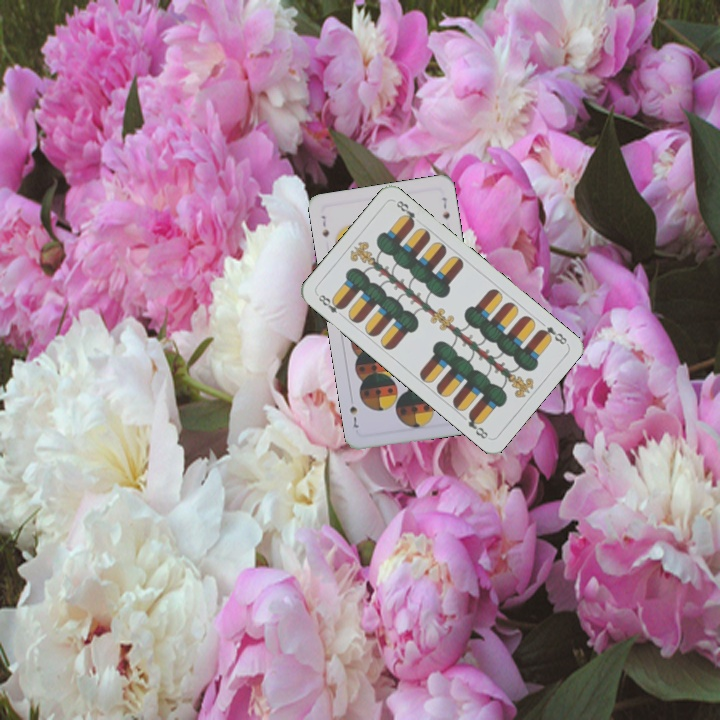E8: (313, 290, 346, 320), (535, 322, 570, 347)
S7: (317, 211, 332, 239)
